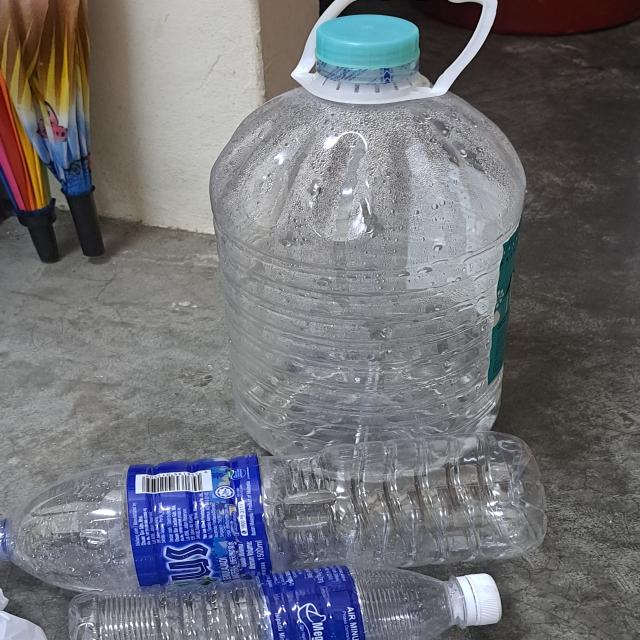plastic bottle: (208, 92, 522, 471), (0, 430, 540, 592), (66, 564, 469, 638)
plastic bottle cap: (311, 13, 422, 85), (456, 569, 504, 626)
